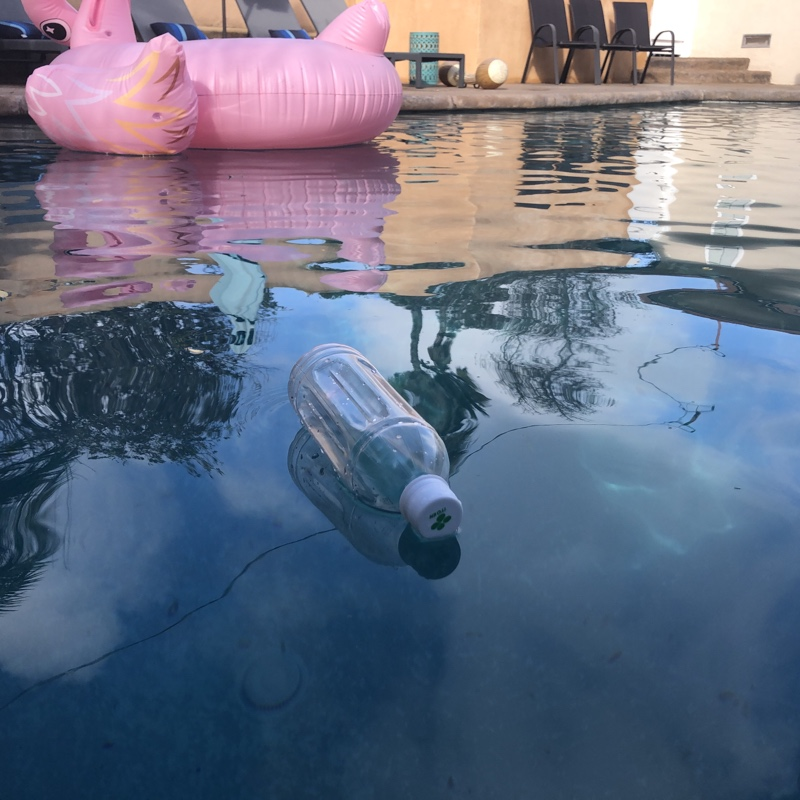Plastic Bottle: (282, 339, 467, 550)
